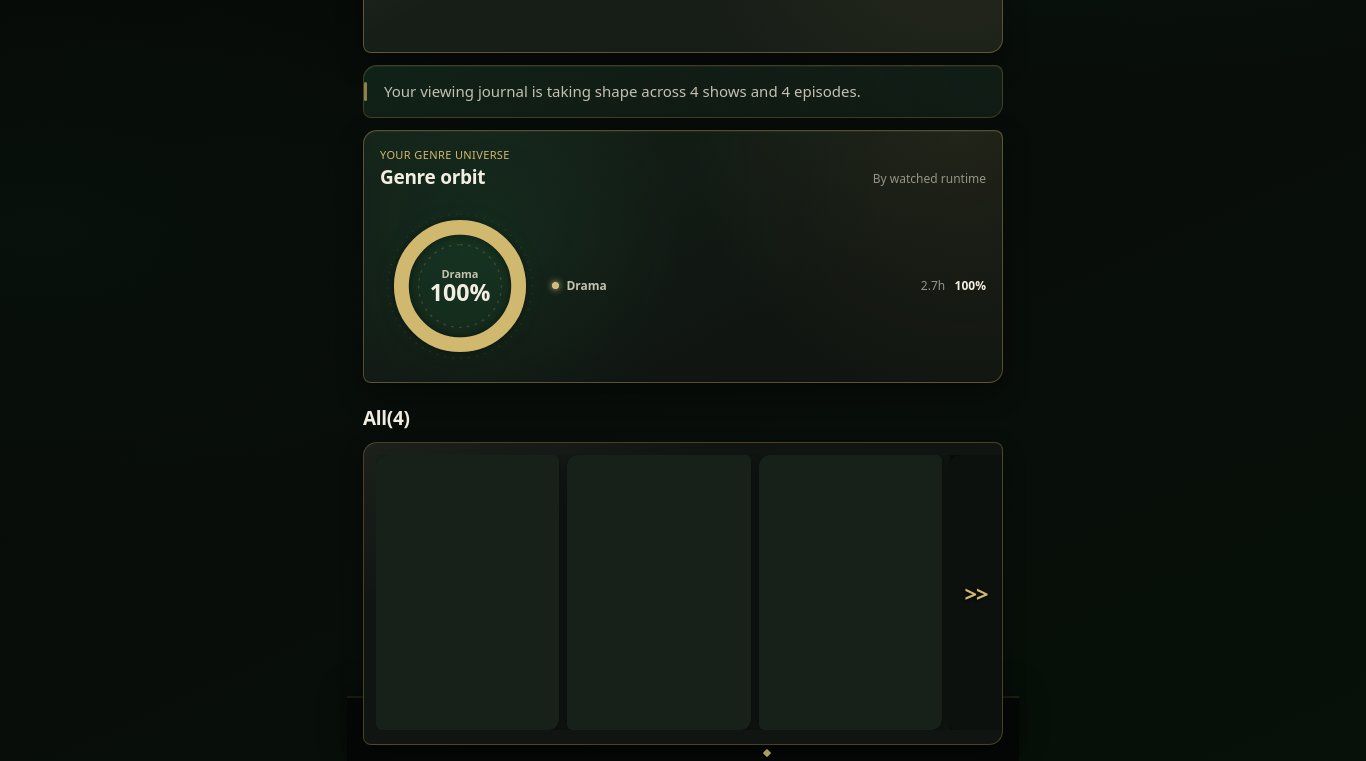
Test case: Stats + StatsAllShows integration — shared state, no second loader › loads once, renders All(4) on the main page, and does not refetch TMDB/Supabase when entering /stats/all
(page scrolled)
Click the link to "/stats/all".
click(976, 593)  # box [964, 578, 988, 608]
(page scrolled)
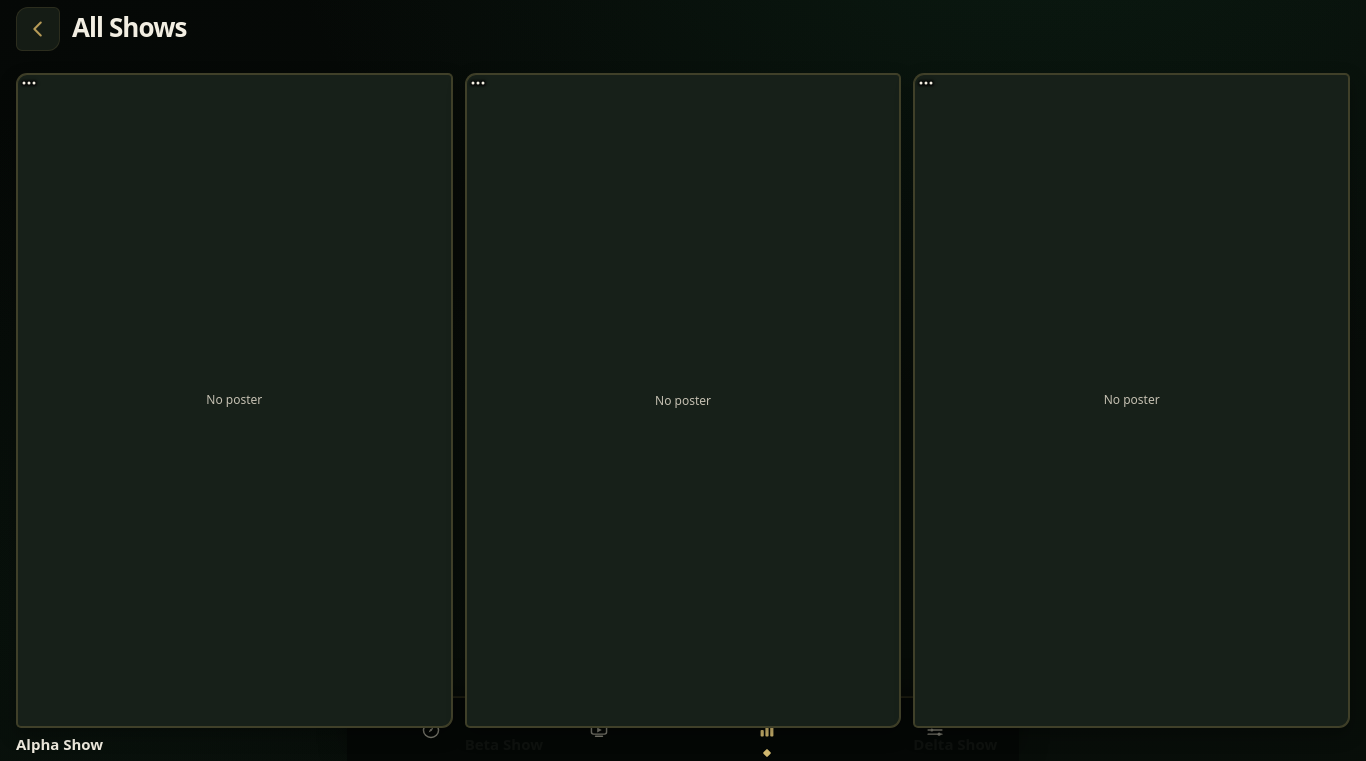
Now the heading "All Shows" is shown, box [72, 9, 186, 43]
Now the text "Alpha Show" is shown, box [16, 734, 103, 754]
